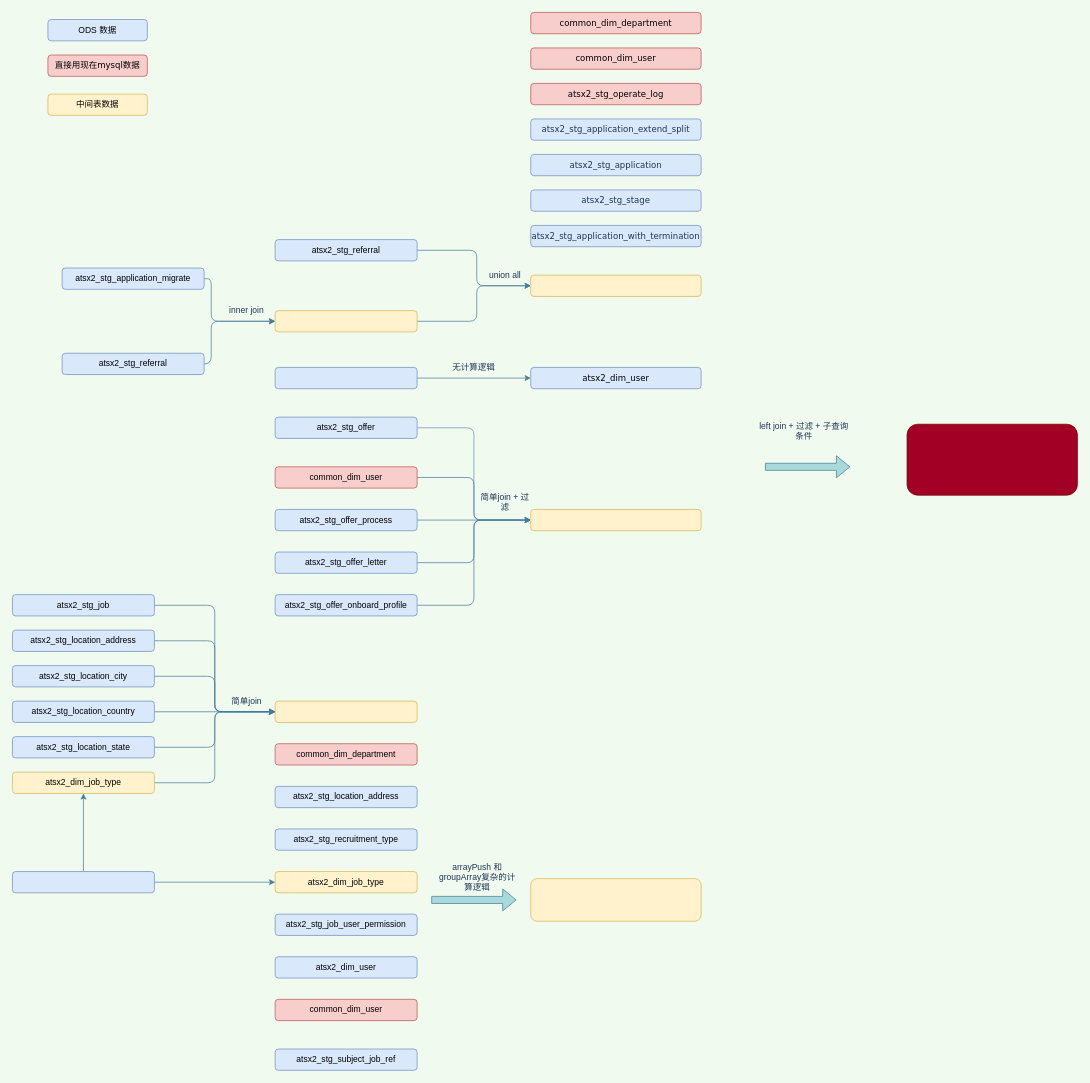
The diagram is 1090 pixels wide and 1083 high, and some of its shapes have lost their labels. The centre of each missing label's shape, as x and y in pixels:
"atsx2_dim_job" belongs at (x=345, y=711).
"atsx2_fact_application_process" belongs at (x=991, y=459).
"atsx2_stg_job_type" belongs at (x=83, y=882).
"atsx2_stg_user" belongs at (x=345, y=378).
"atsx2_tmp_job" belongs at (x=615, y=899).
"atsx2_tmp_offer" belongs at (x=615, y=520).
"referral" belongs at (x=615, y=285).
"total_referral" belongs at (x=345, y=321).
